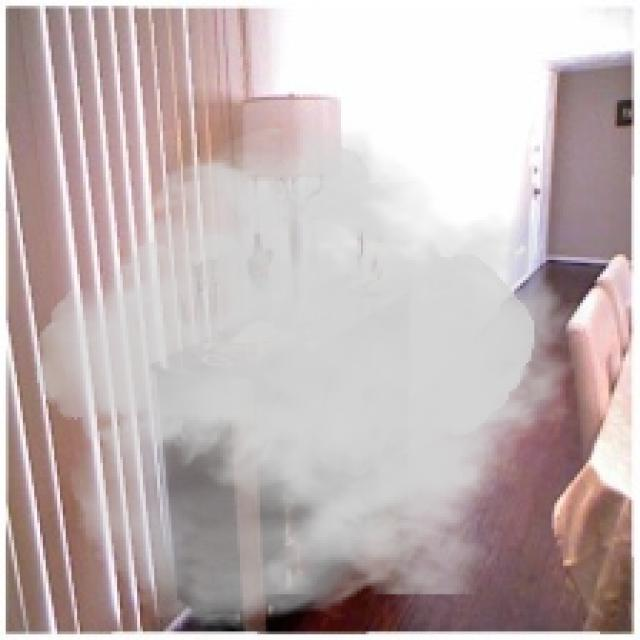smoke: (34, 120, 594, 637)
